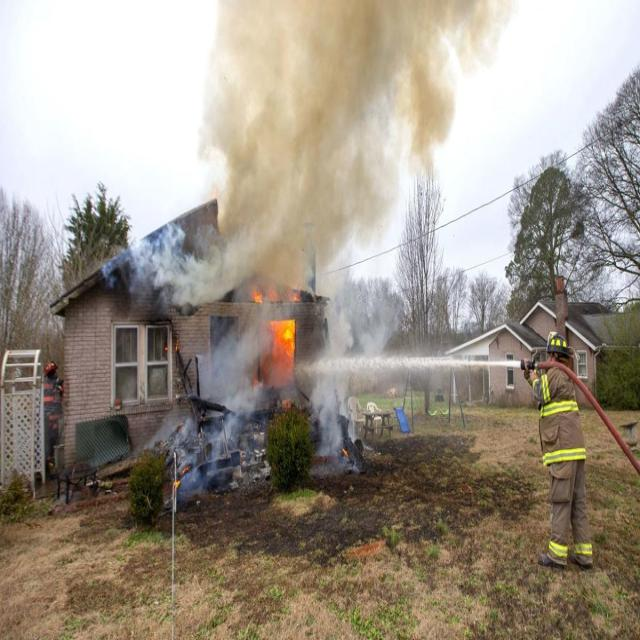smoke: (220, 0, 448, 157), (218, 174, 353, 282), (188, 331, 256, 495), (323, 290, 359, 450), (137, 230, 208, 306)
